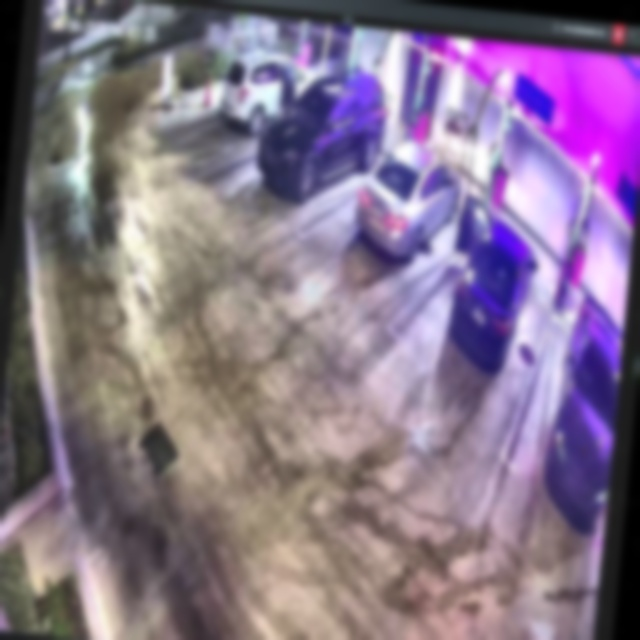Car: (254, 59, 392, 207), (443, 193, 543, 373), (352, 135, 465, 265)
